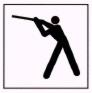sinais: (0, 2, 91, 91)
